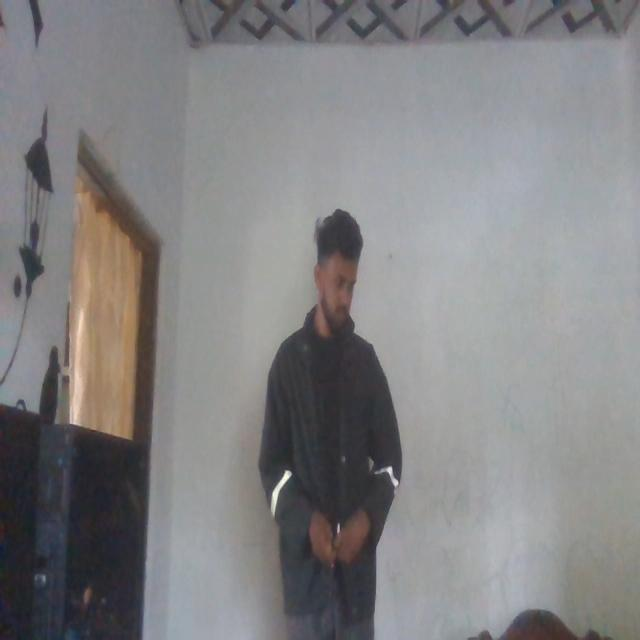Jacket_Wearer: (259, 298, 405, 618)
Person: (245, 191, 415, 626)
